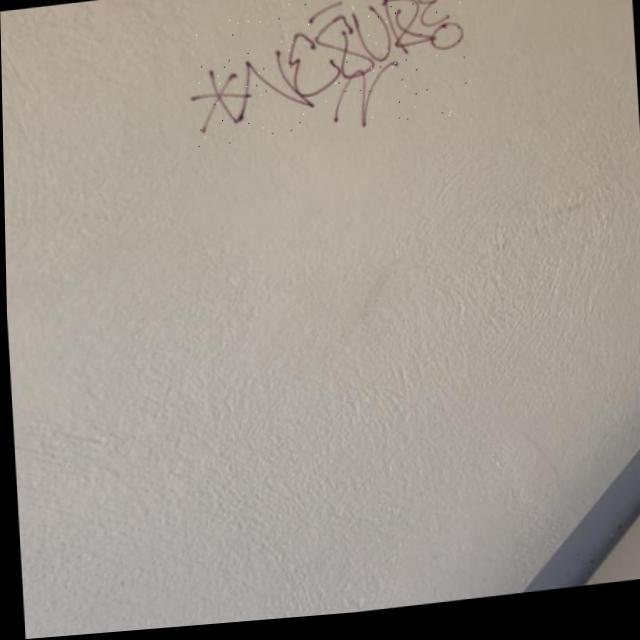-: (187, 0, 468, 151)
